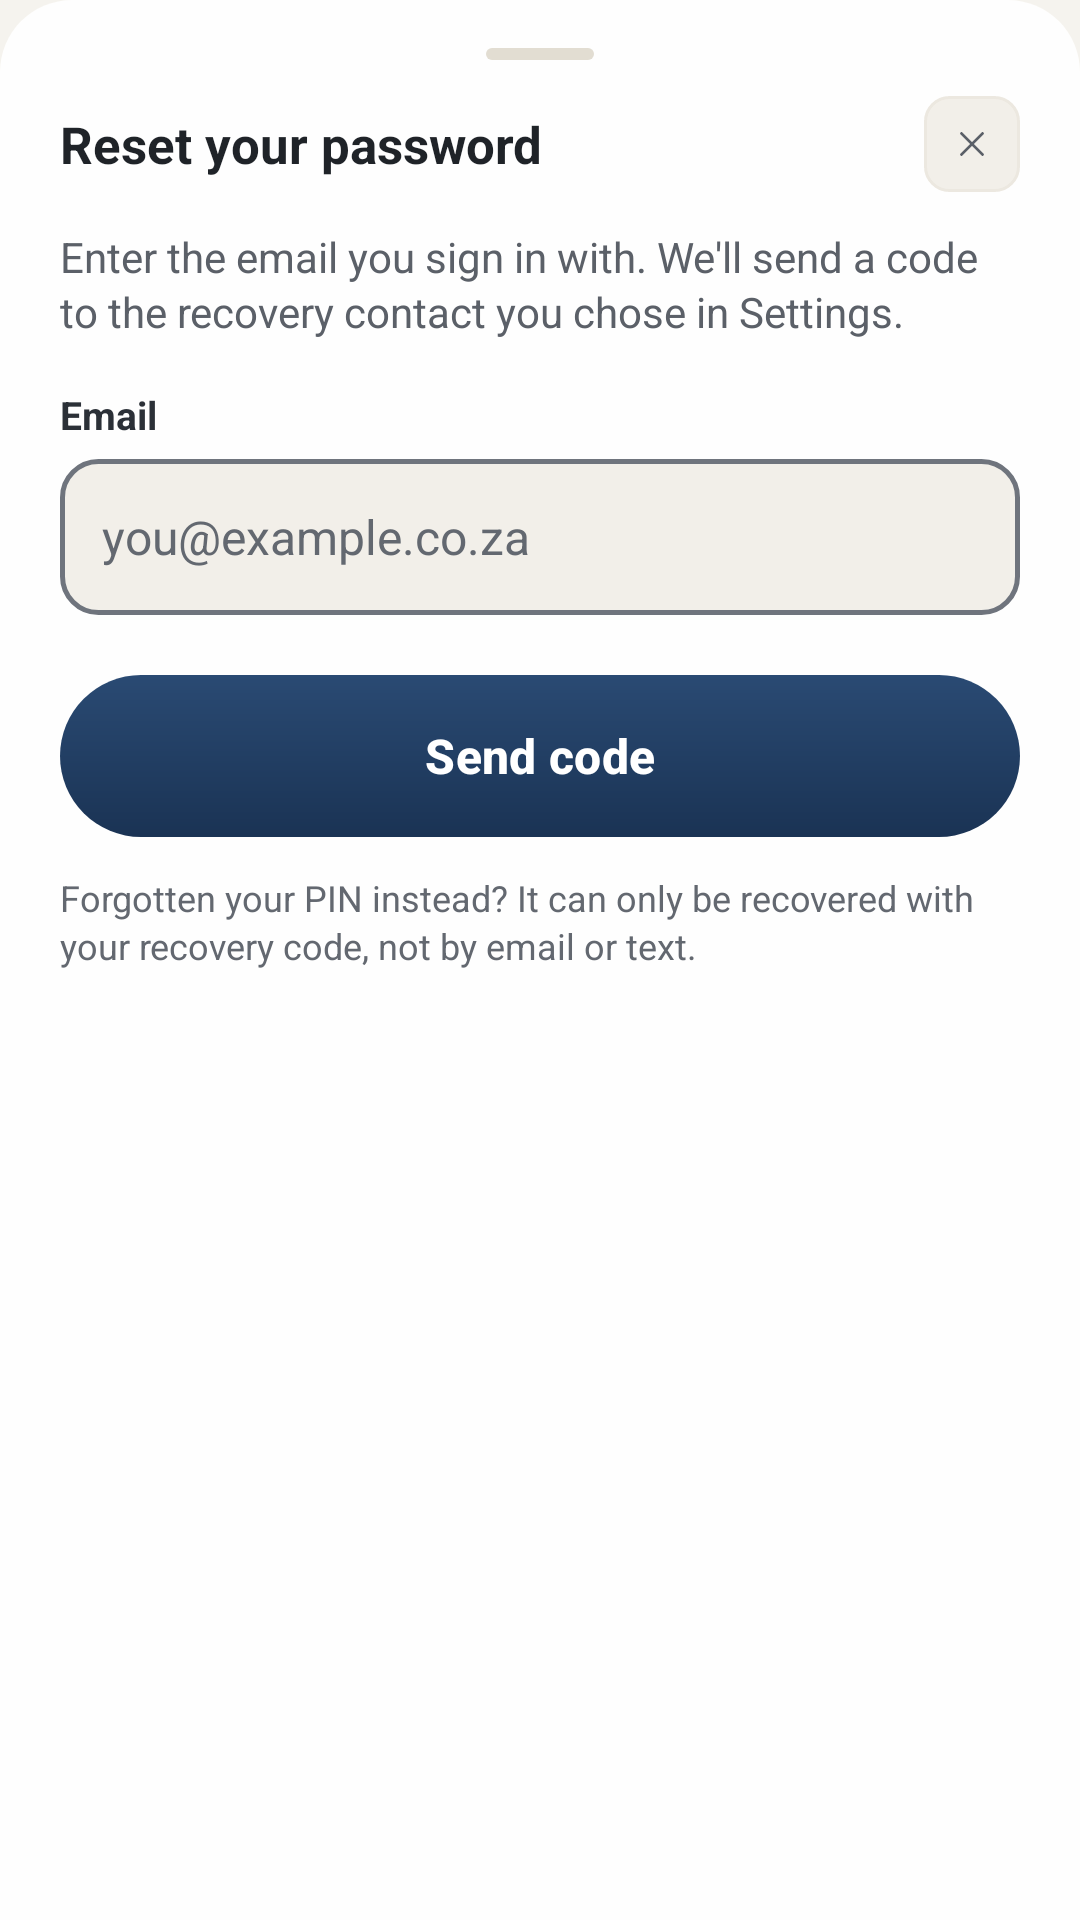

Screen size 1080 × 1920. Icon name, then its center in pixels as [x,y]:
Close: [972,144]
